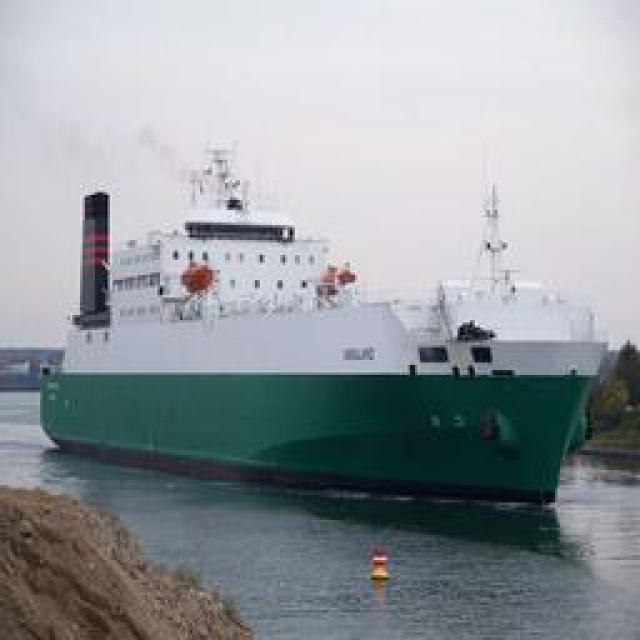Ship: (36, 122, 606, 492)
